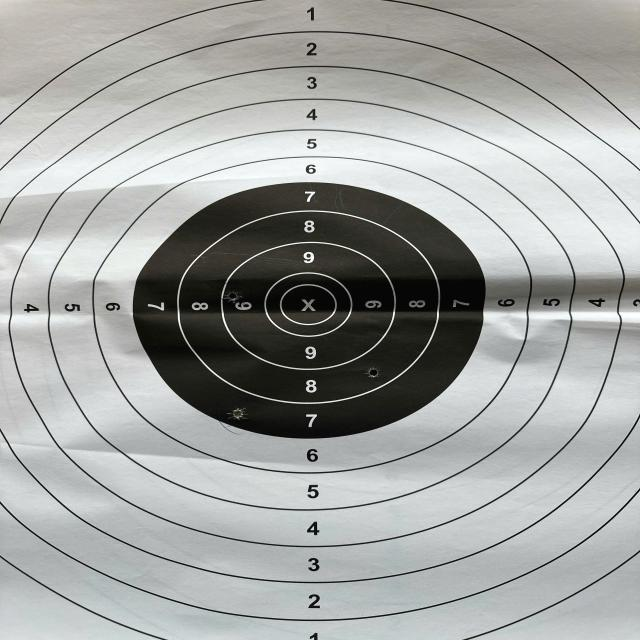bullet: (369, 368, 380, 380), (229, 292, 239, 304), (236, 408, 244, 420)
